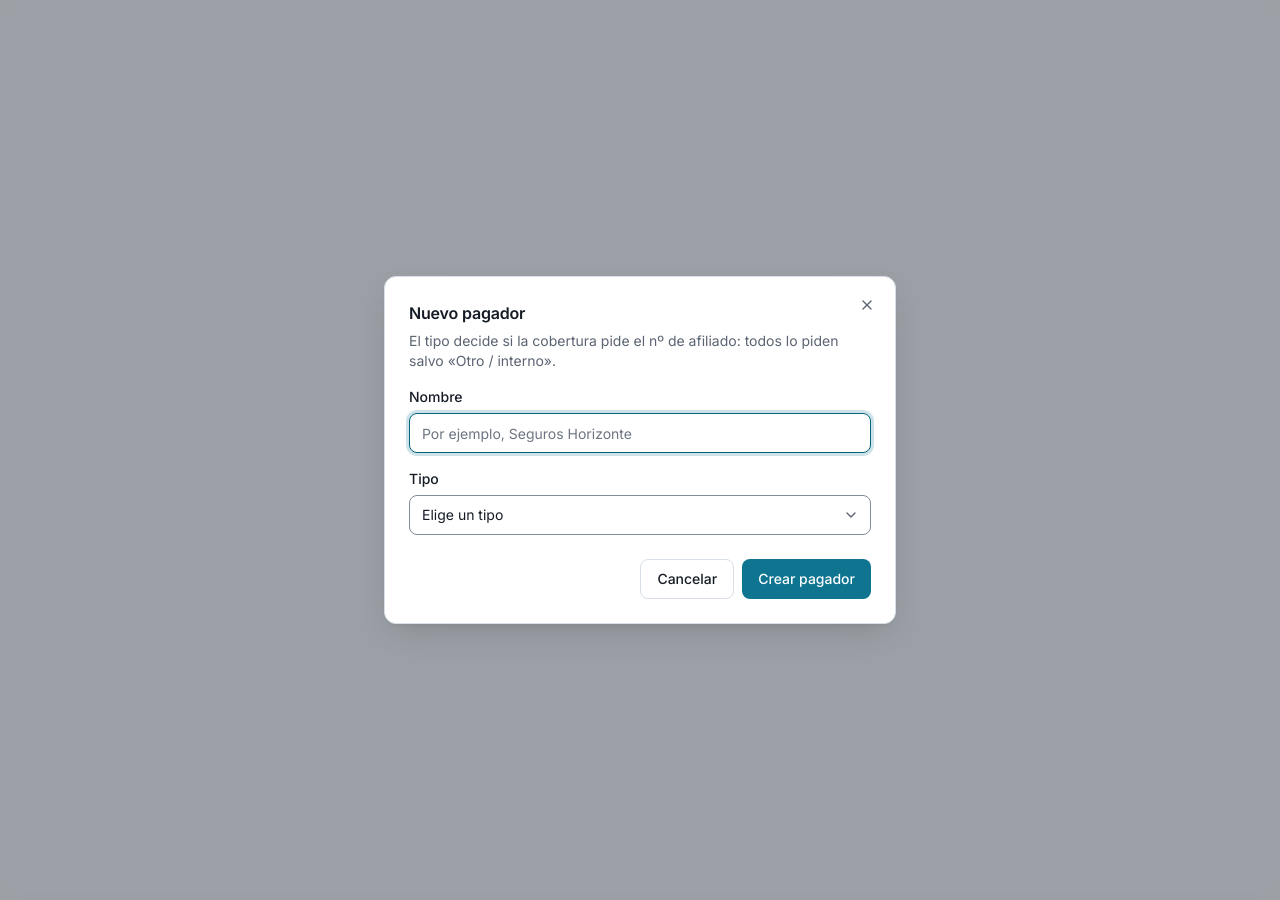
Test case: PayerFormModal (DX-153) › SEC-047: type is required — no default, and it must be chosen
Expected: the dropdown labelled "Tipo" shows "Elige un tipo", [409,495,871,535]
Type "Surco Salud" into the field labelled "Nombre". click: (640, 433)
box: [409,413,871,453]
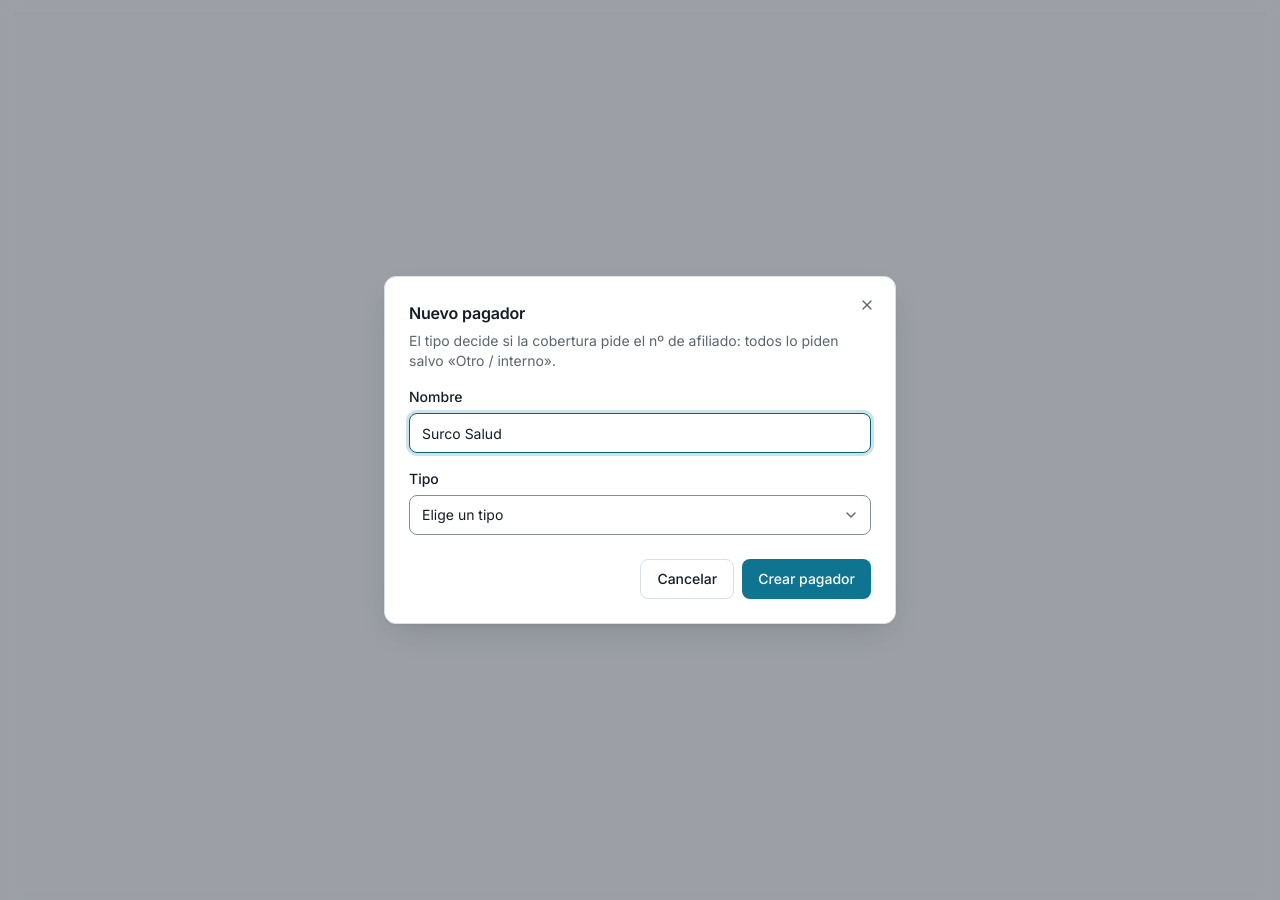
Click the button "Crear pagador". click: (807, 579)
box: [742,559,871,599]
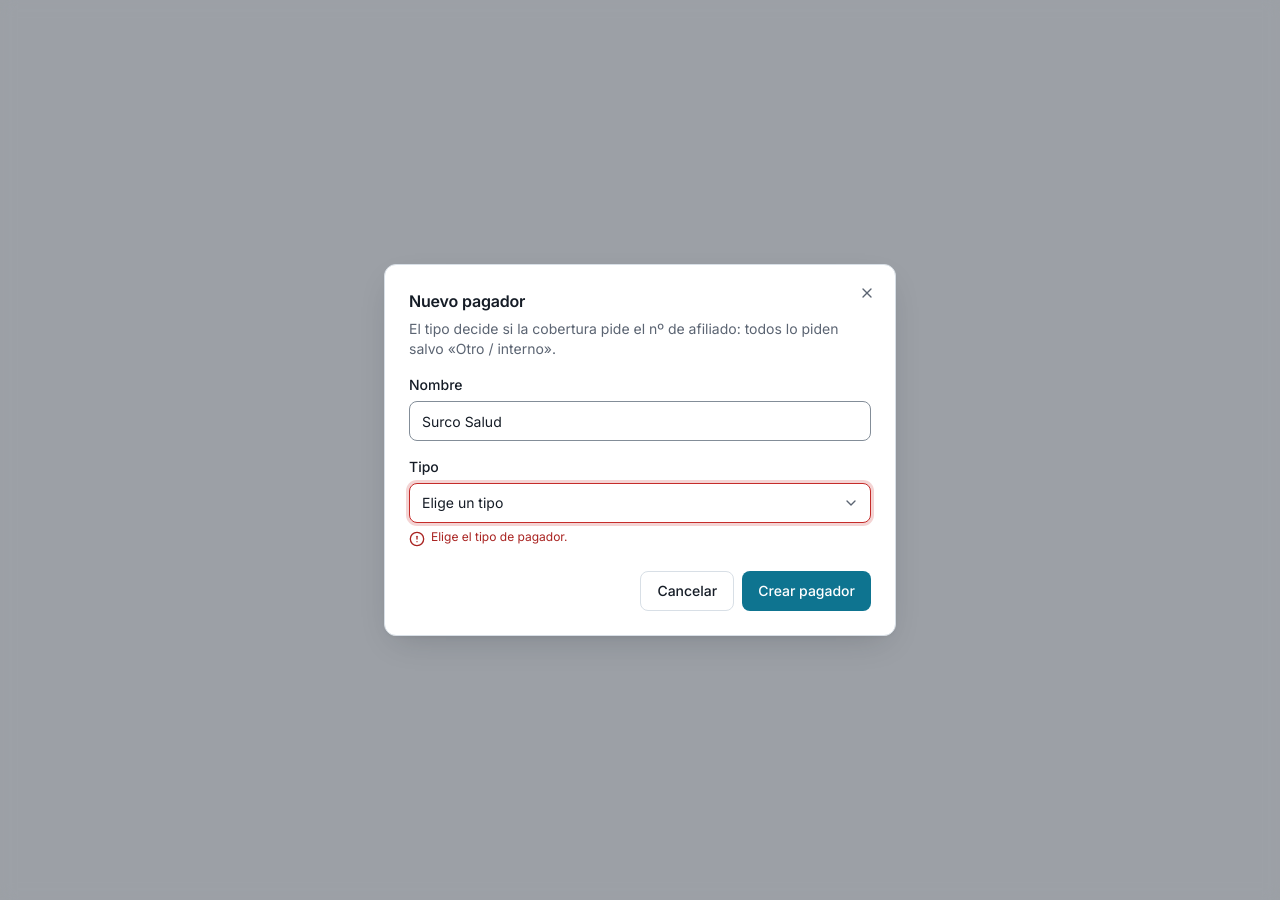
Now the text "Elige el tipo de pagador." is shown, box [431,529,568,545]
